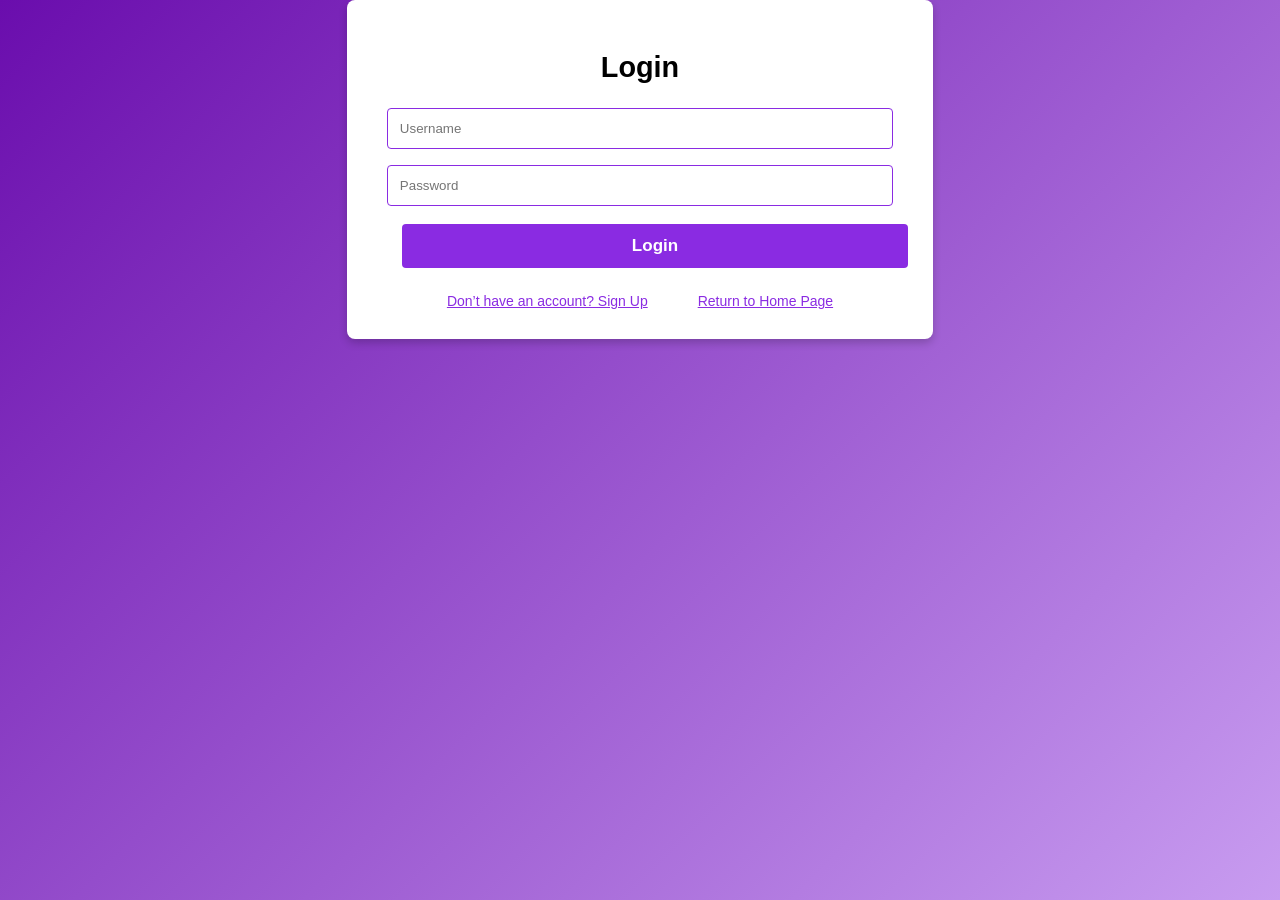
Test: LoginPage › handles login failure
This screenshot has width=1280, height=900.
Type "testuser" into the field with placeholder "Username". click: (640, 128)
box: x1=387 y1=108 x2=893 y2=149
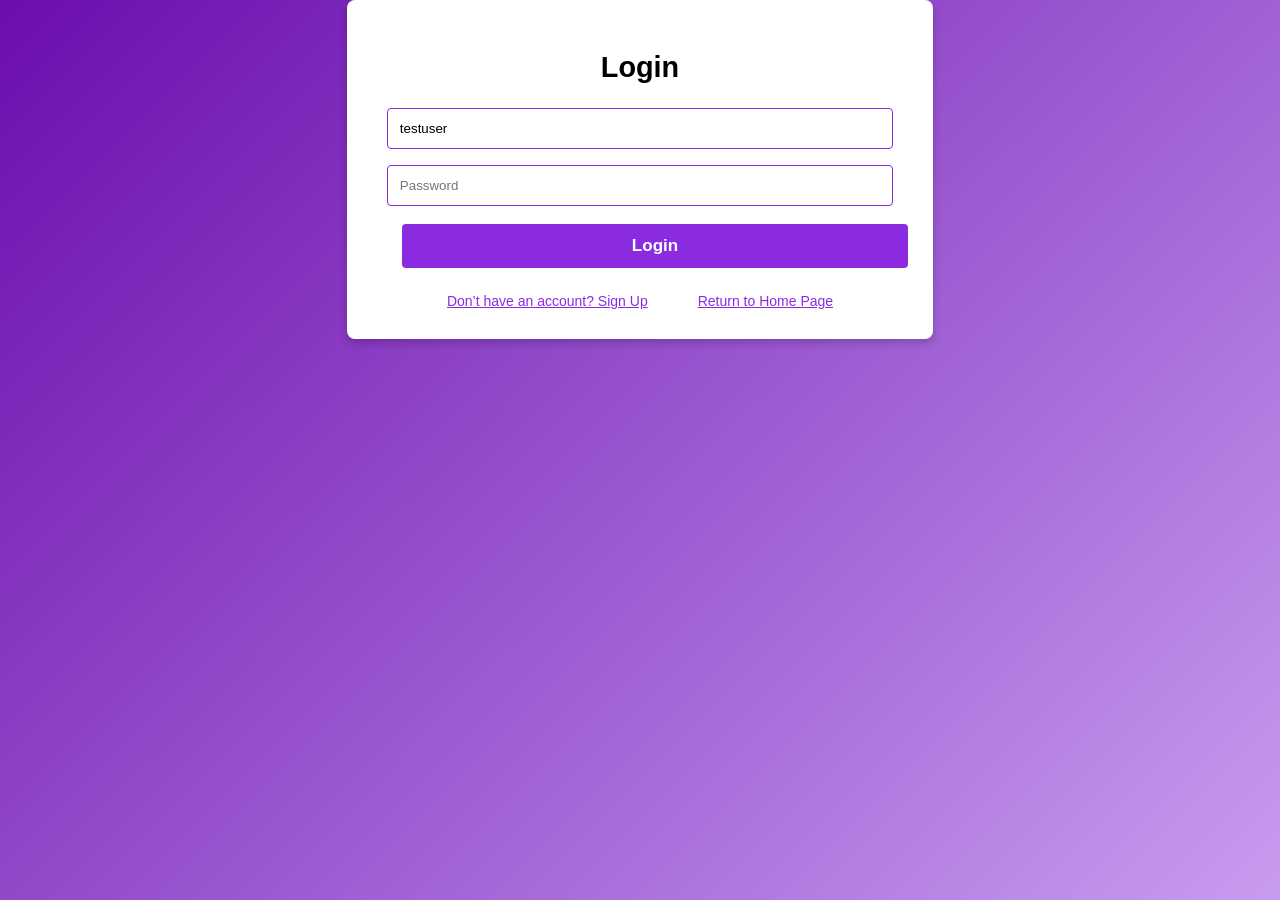
Type "wrongpassword" into the password field with placeholder "Password". click: (640, 186)
box: x1=387 y1=165 x2=893 y2=206
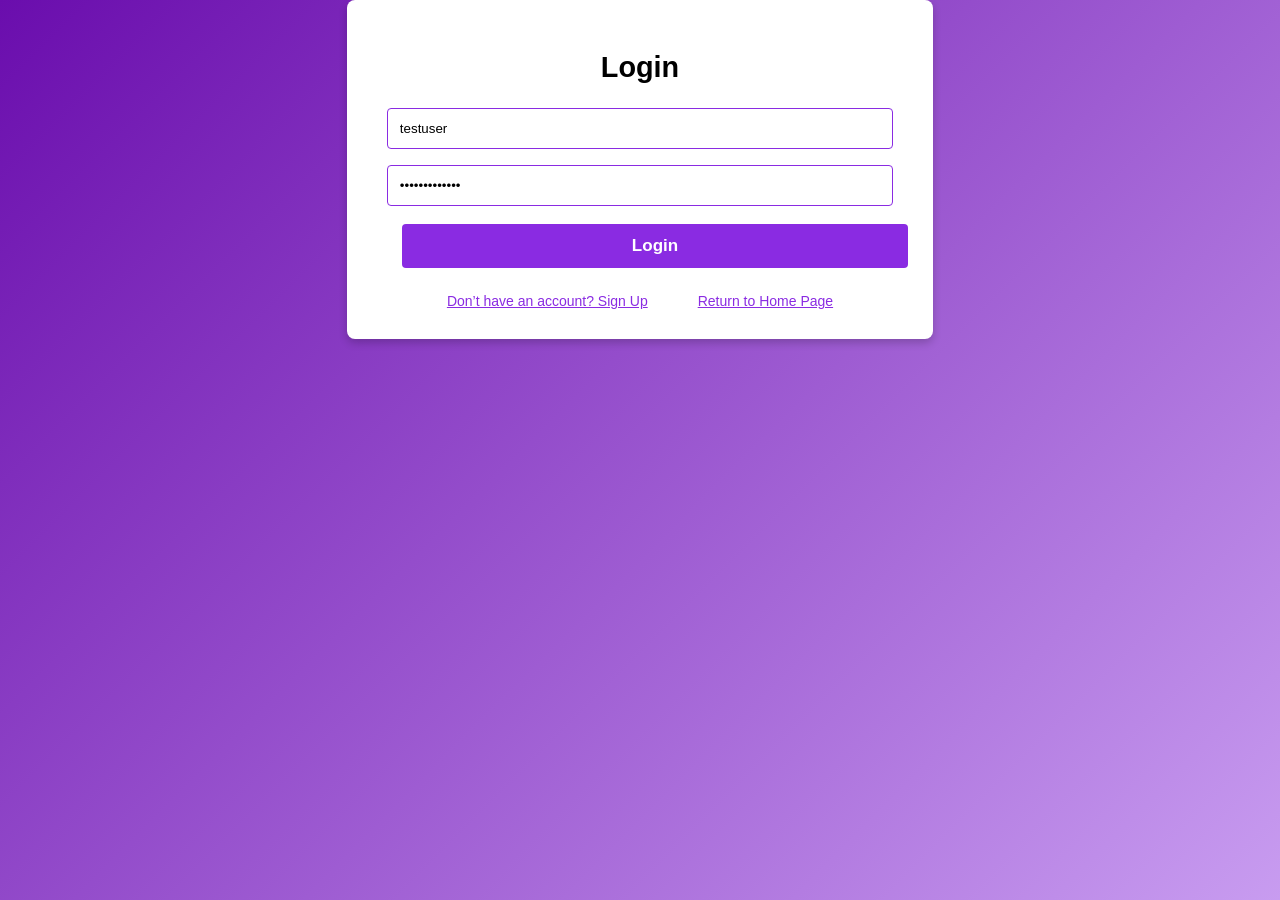
Click the button "Login". click: (655, 246)
box: x1=402 y1=224 x2=908 y2=268
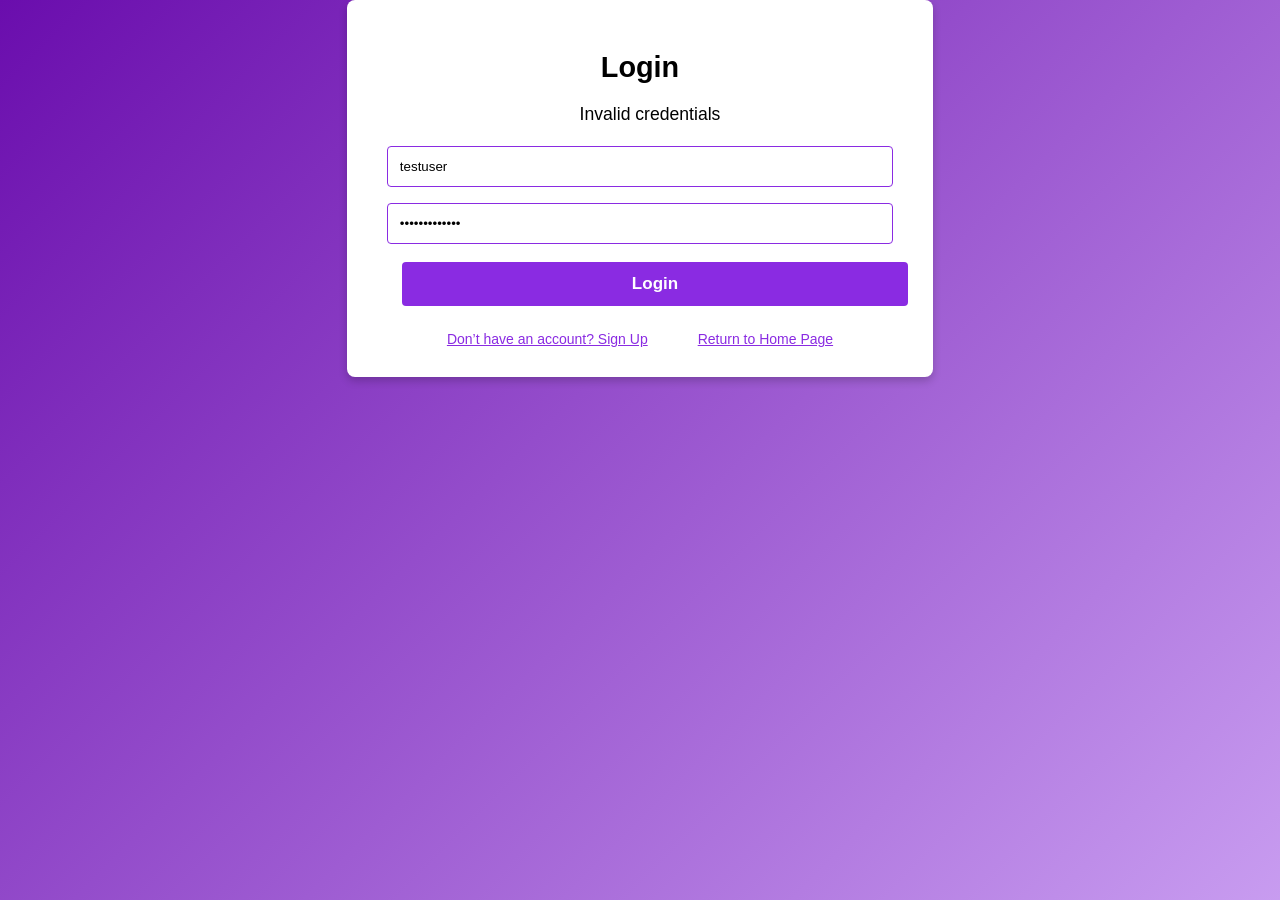
Now the text "Invalid credentials" is shown, box x1=580 y1=104 x2=720 y2=124
